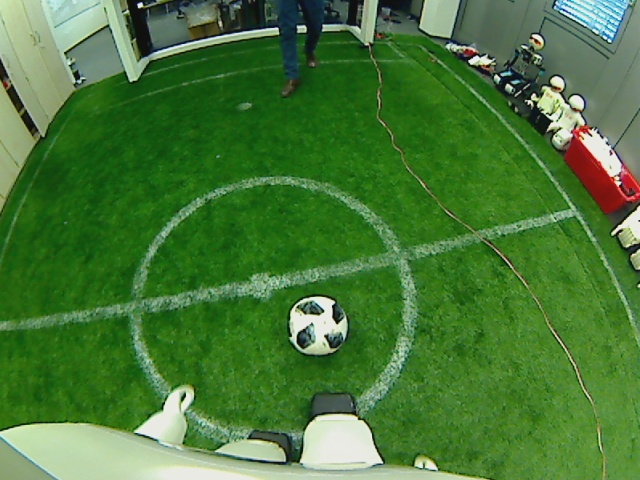ball: (287, 294, 350, 356)
